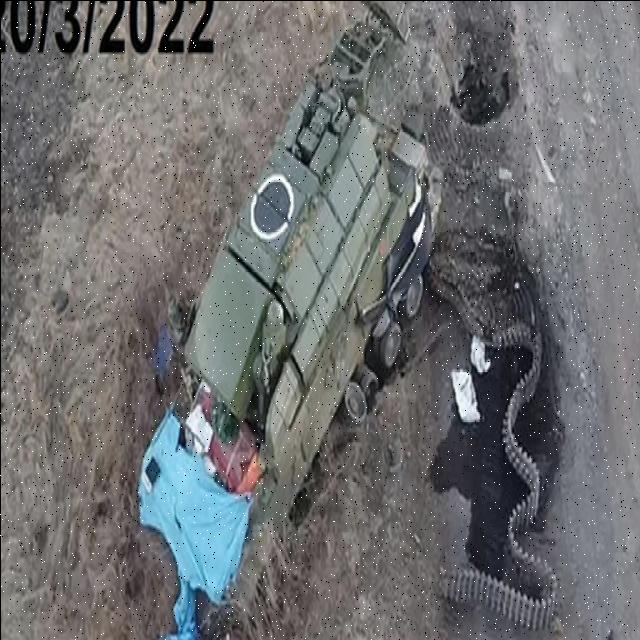MLRS: (132, 2, 446, 596)
